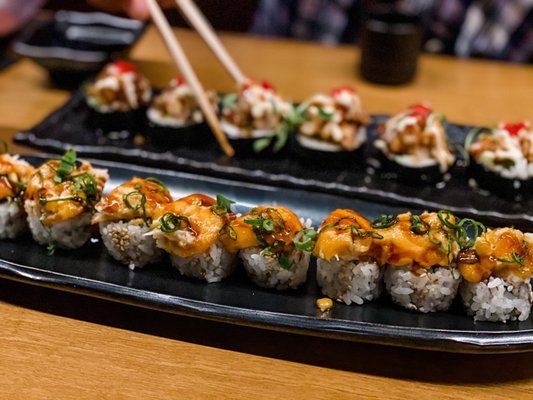burger: (145, 2, 236, 160)
pizza: (358, 14, 425, 86)
